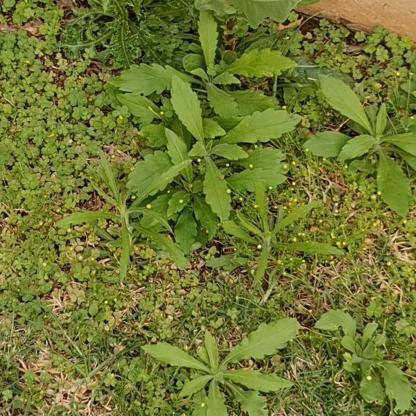Weeds: (116, 75, 300, 258), (105, 8, 300, 120), (51, 147, 188, 289), (141, 316, 303, 415), (307, 71, 415, 217), (221, 176, 345, 297), (316, 305, 415, 415), (61, 1, 200, 69), (197, 0, 322, 29)
